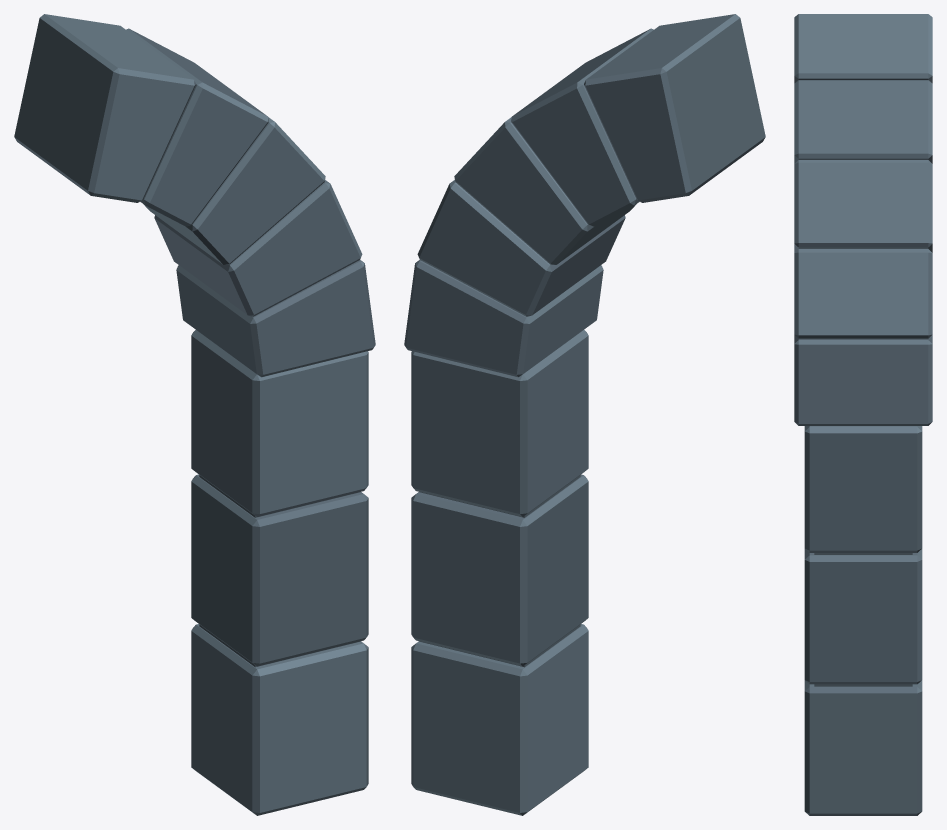
Rendered from A21_Ruin_Arch_Half.fbx.
The picture shows the model from 3 angles, left to right: view 1: azimuth 30°, elevation 25°; view 2: azimuth 150°, elevation 25°; view 3: azimuth 270°, elevation 25°; orthographic projection. The views are drawn at different scales.
Visible parts, largest first — view 1: A21_Ruin_Arch_Half; view 2: A21_Ruin_Arch_Half; view 3: A21_Ruin_Arch_Half.
Boxes of the visible parts, left/top/right/bottom form: A21_Ruin_Arch_Half: left=14, top=14, right=375, bottom=815; A21_Ruin_Arch_Half: left=404, top=14, right=765, bottom=815; A21_Ruin_Arch_Half: left=794, top=14, right=932, bottom=815.
Size of the model in its own units: 0.8467 by 2.22 by 0.4.
1 material, 1 textured.
